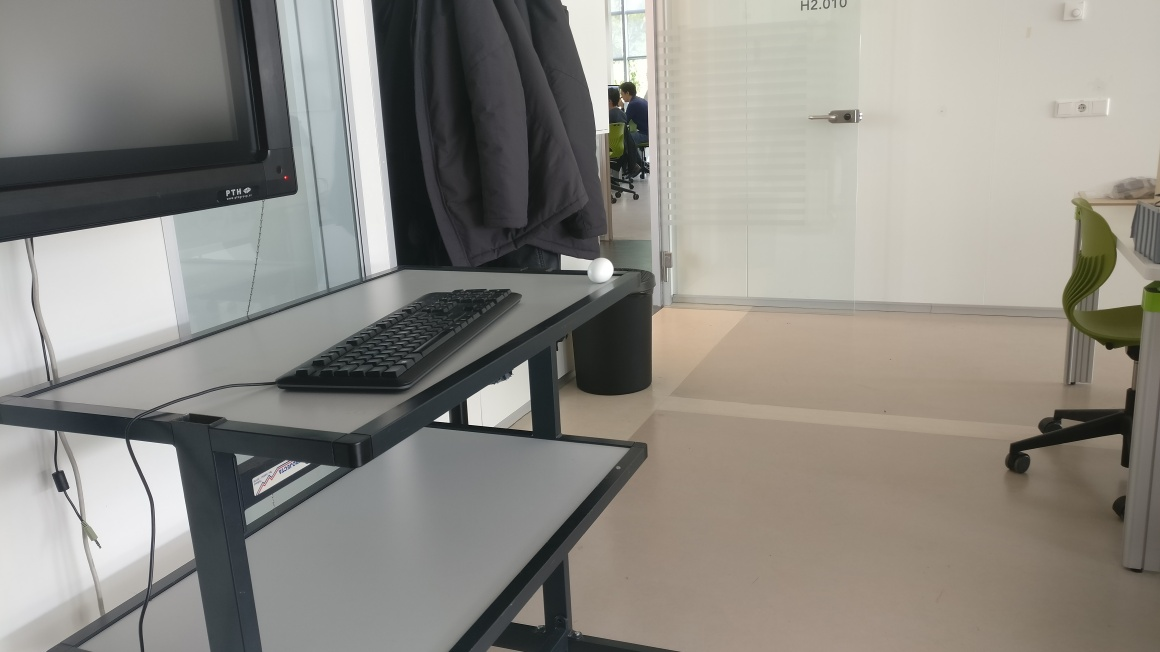egg: (586, 257, 614, 283)
